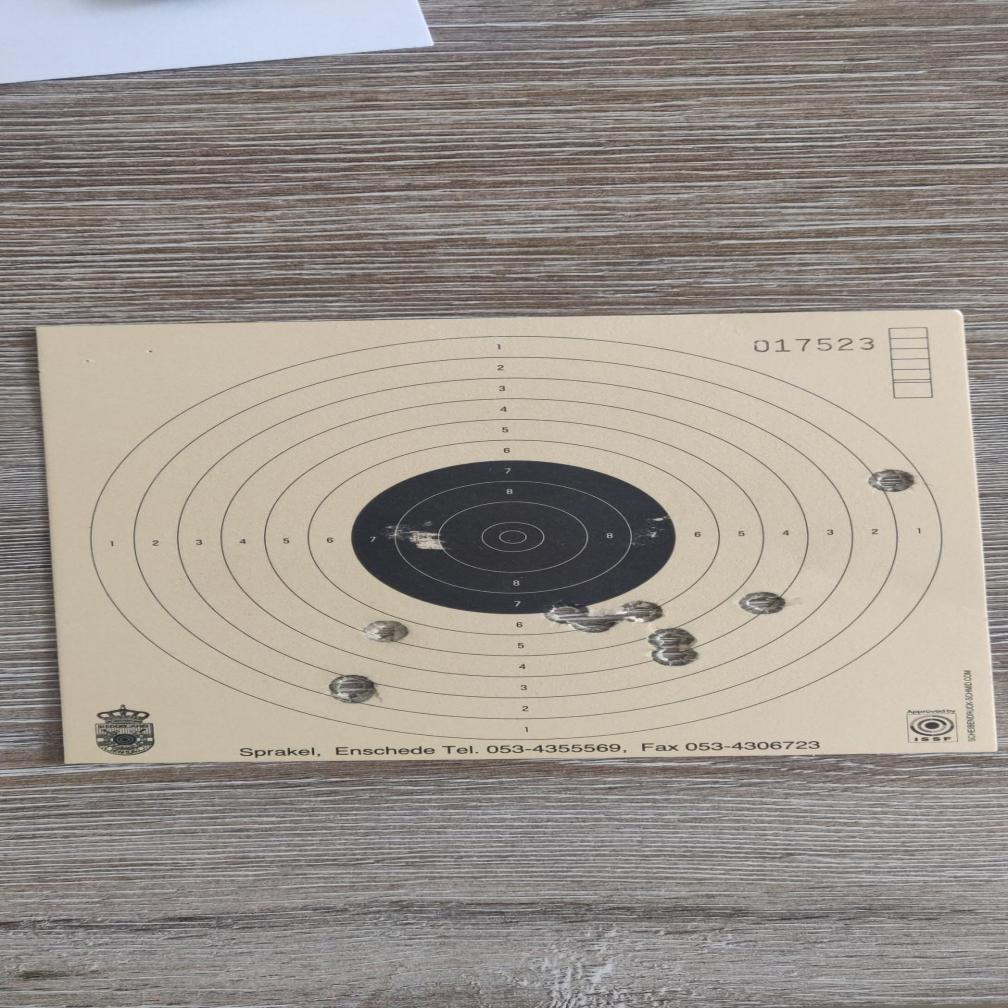2: (864, 467, 920, 493)
3: (324, 673, 383, 704)
4: (738, 590, 788, 615), (650, 646, 698, 666)
5: (358, 618, 412, 644), (645, 627, 699, 649)
6: (616, 599, 668, 624), (568, 610, 620, 634)
7: (541, 600, 589, 622)
Target: (87, 334, 950, 743)
black_contour: (350, 459, 678, 615)
